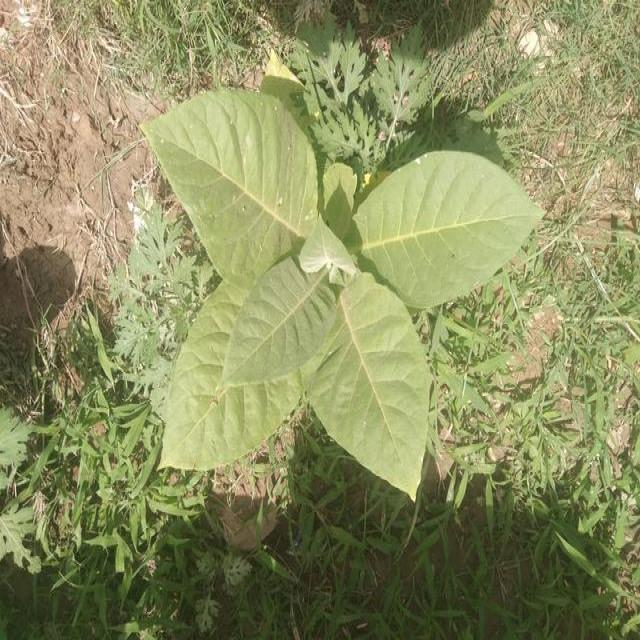crop: (142, 94, 536, 498)
